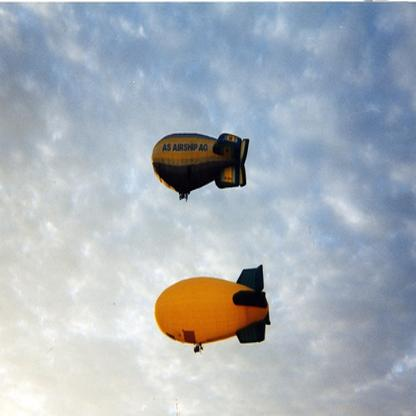Airship: (152, 265, 278, 354), (148, 128, 253, 209)
